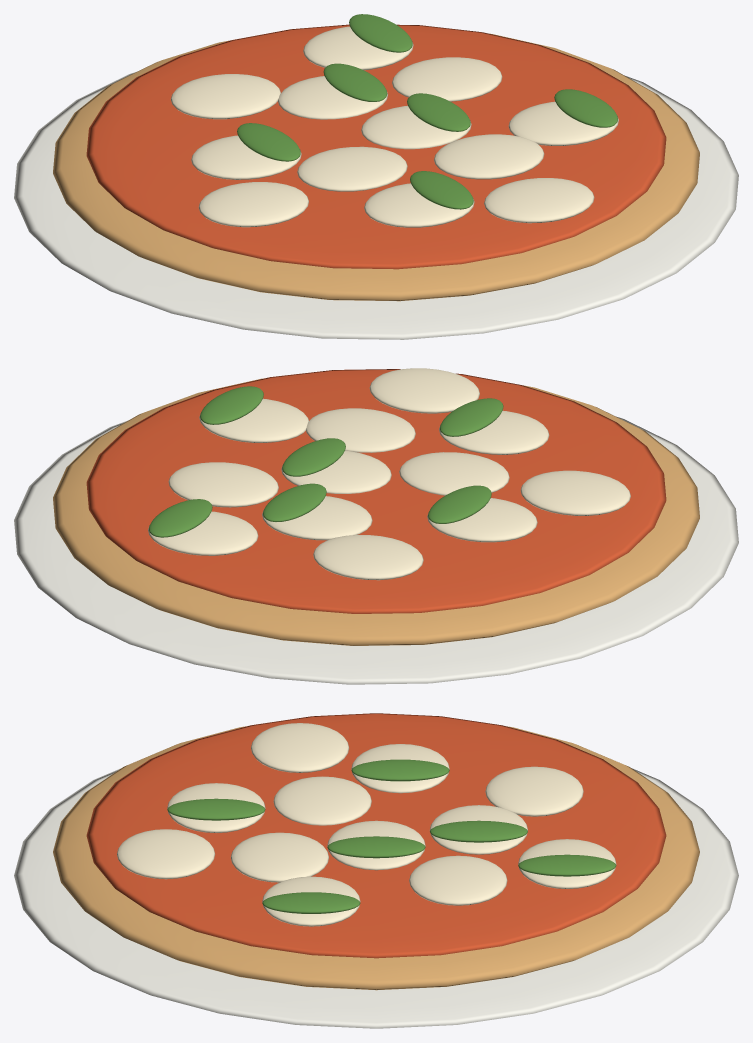
The model's file is pizza.glb.
The picture shows the model from 3 angles, top to bottom: view 1: azimuth 30°, elevation 25°; view 2: azimuth 150°, elevation 25°; view 3: azimuth 270°, elevation 25°; orthographic projection.
Bounding box in the file's own units: 0.28 × 0.031 × 0.28.
